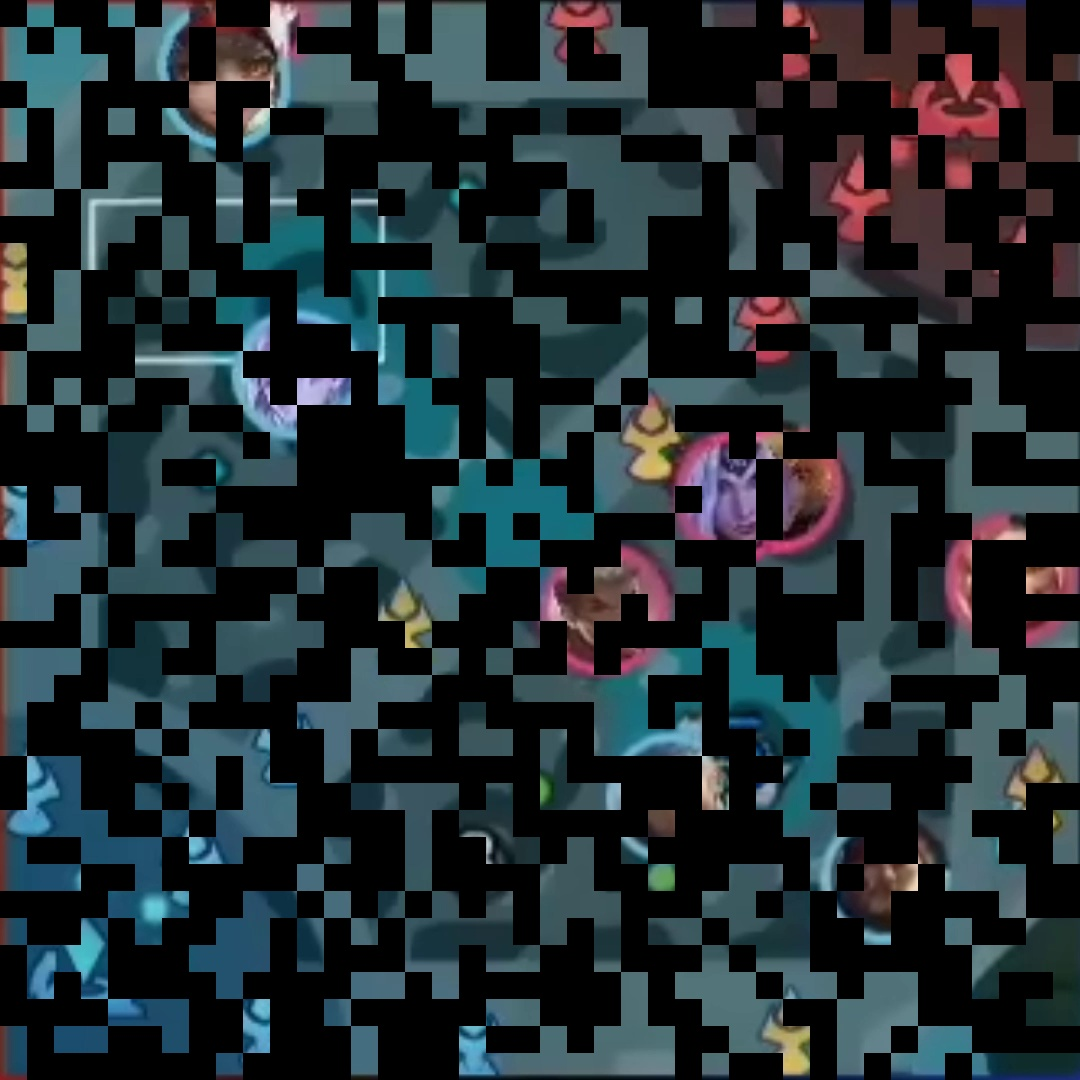Chou: (554, 566, 646, 656)
Fredrinn: (630, 751, 716, 849)
Lapu-Lapu: (842, 829, 936, 925)
Masha: (969, 529, 1062, 623)
Novaria: (249, 332, 342, 418)
Valentina: (686, 447, 784, 537)
Wanwan: (185, 41, 273, 127)
